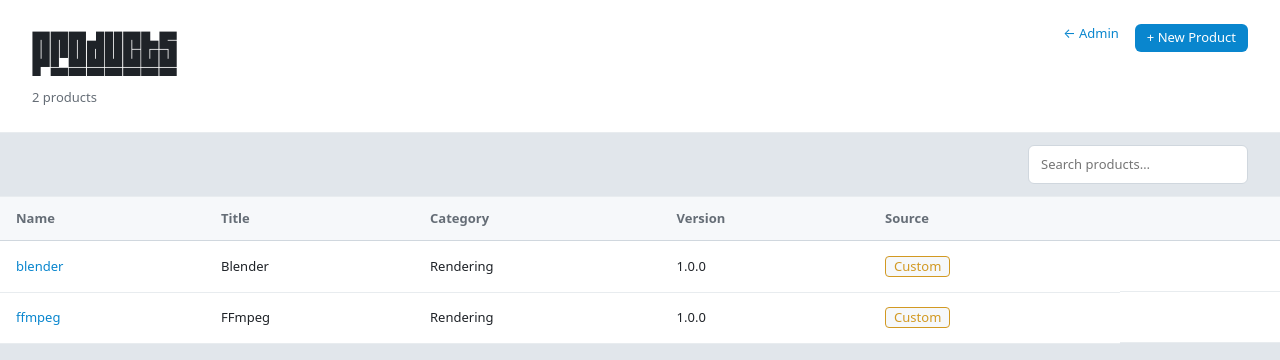
Scenario: ProductList › filters rows as you type and shows the filtered count in the subtitle
The image size is (1280, 360).
Expected: the link "blender" is shown, [16, 256, 63, 274]
Expected: the text "2 products" is shown, [32, 88, 97, 106]
Step 1. Type "blender" into the search field → coordinates (1138, 164), box [1028, 144, 1248, 184]
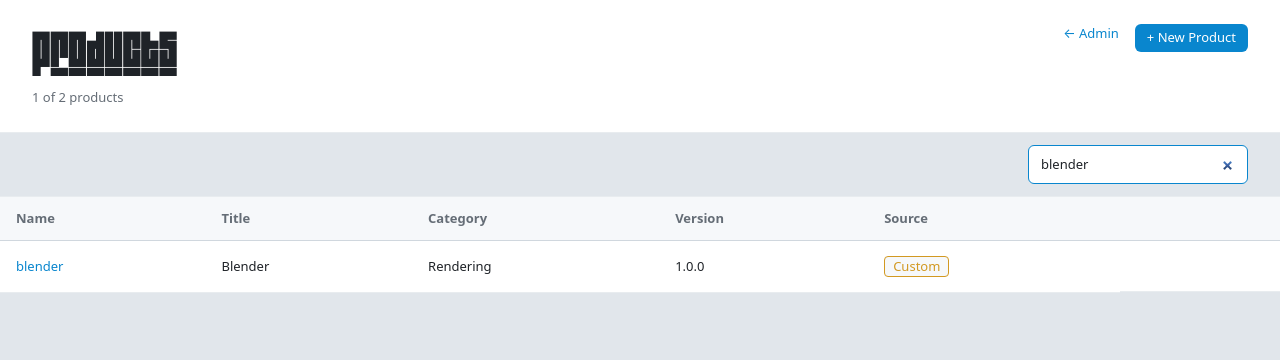
Expected: the link "blender" is shown, [16, 256, 63, 274]
Expected: the link "ffmpeg" is gone
Expected: the text "1 of 2 products" is shown, [32, 88, 124, 106]
